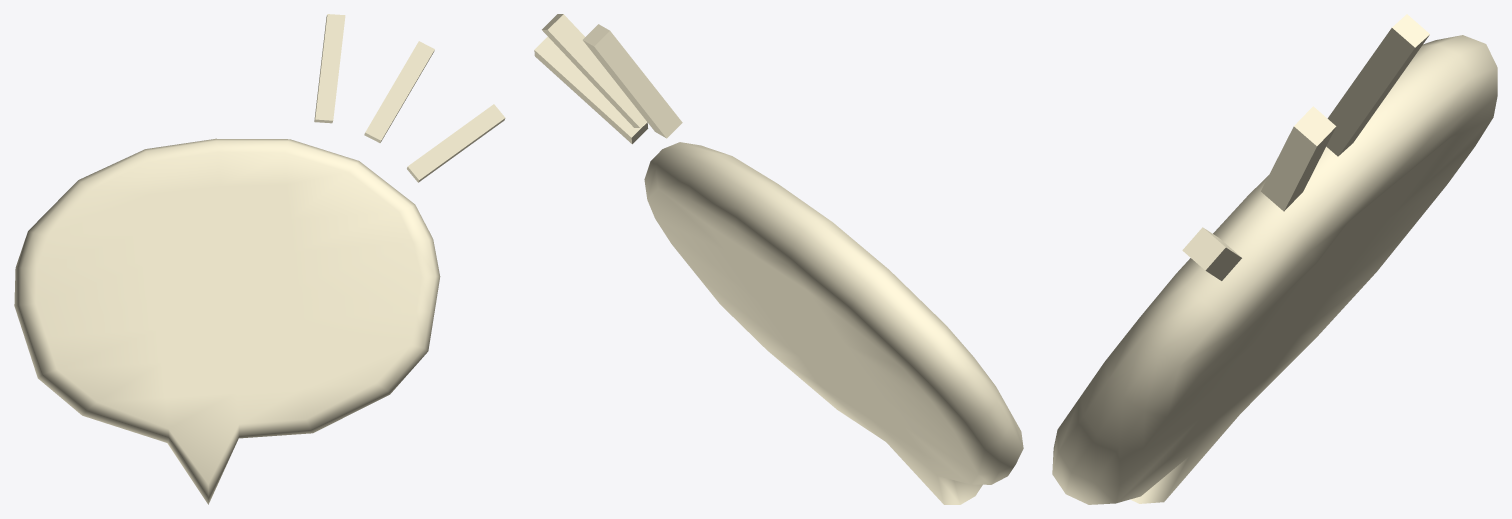
File: Komono_A_Hukidasi.fbx
3 views of the same model, side by side, from view 1: azimuth 30°, elevation 25°; view 2: azimuth 150°, elevation 25°; view 3: azimuth 270°, elevation 25° (orthographic). The views are drawn at different scales.
Visible parts, largest first — view 1: hukidasi_m; view 2: hukidasi_m; view 3: hukidasi_m.
Part boxes in pixels (x1,y1,x2,y2): hukidasi_m: (14,14,505,504); hukidasi_m: (534,14,1023,504); hukidasi_m: (1052,14,1497,504).
Size of the model in its own units: 76.84 by 66.27 by 40.81.
